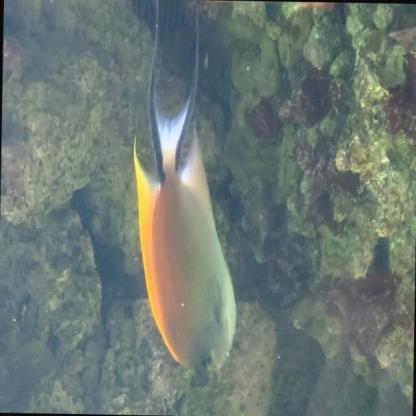fish: (130, 0, 242, 372)
